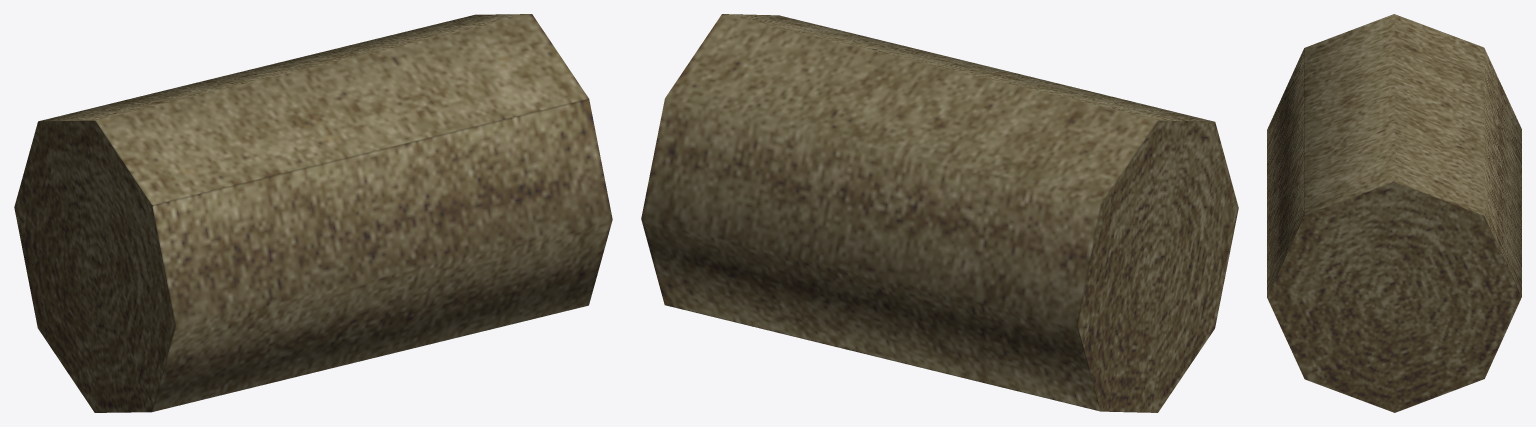
The model's file is SM_EC_Hay_3.003.fbx.
3 views of the same model, side by side, from view 1: azimuth 30°, elevation 25°; view 2: azimuth 150°, elevation 25°; view 3: azimuth 270°, elevation 25° (orthographic). The views are drawn at different scales.
Parts seen in each view (by area): view 1: SM_EC_Hay_3.003; view 2: SM_EC_Hay_3.003; view 3: SM_EC_Hay_3.003.
Part boxes in pixels (box(x1,y1,x2,y2)): SM_EC_Hay_3.003: box(14, 14, 612, 412); SM_EC_Hay_3.003: box(641, 14, 1238, 412); SM_EC_Hay_3.003: box(1267, 14, 1521, 412).
Bounding box in the file's own units: 2.5 × 1.6 × 1.6.
